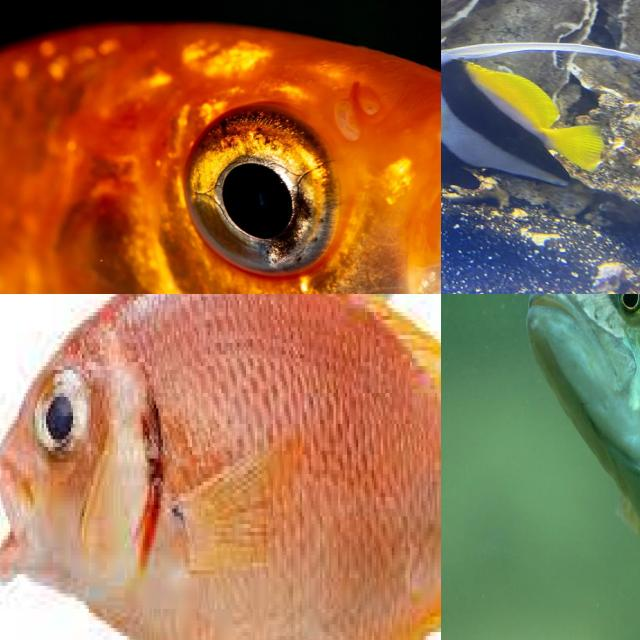fish: (0, 294, 441, 640), (0, 0, 441, 294), (441, 37, 601, 195)
